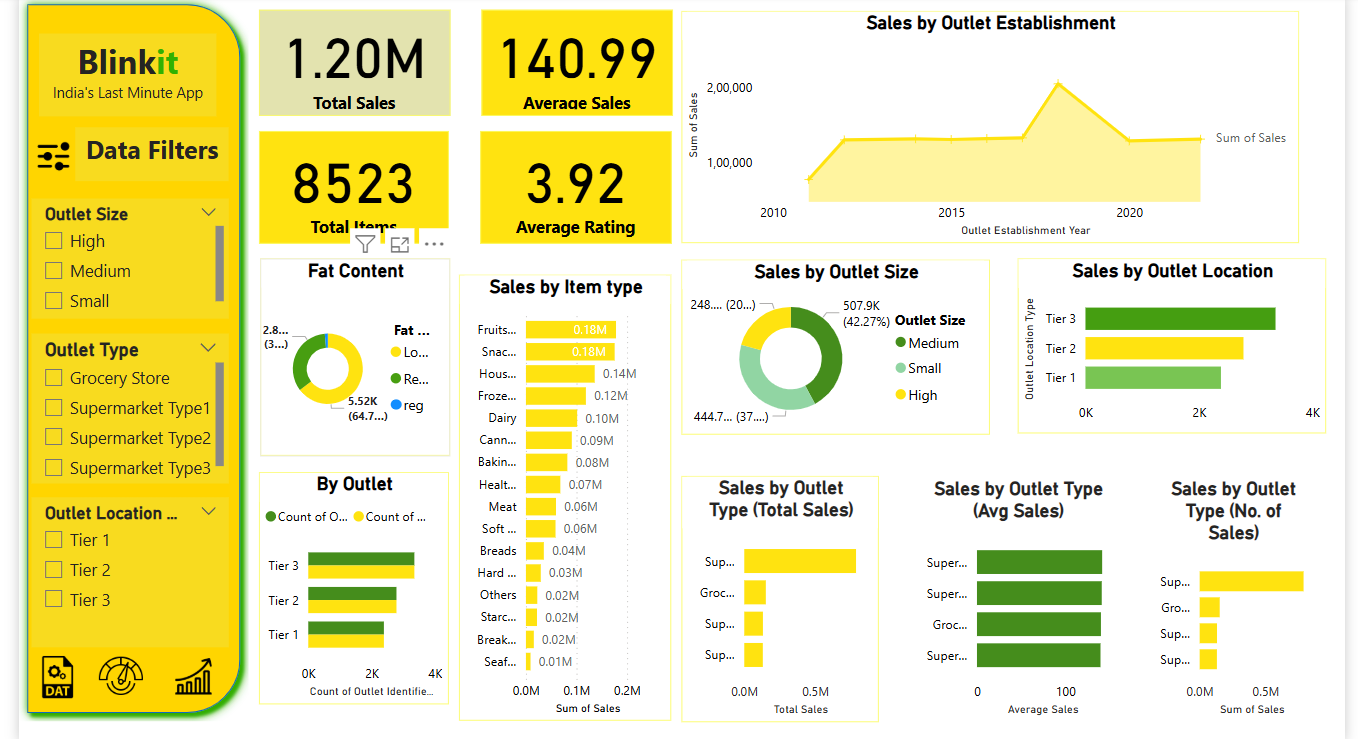

The dashboard page shown, as its layout file describes it:
{"tool":"powerbi","page":{"name":"Page 1","canvas":[1280,720],"ordinal":0},"visuals":[{"type":"card","fields":{"Values":["Blinkit.Total Sales"]},"box":[231.6,13.3,184.6,102.5],"z":0},{"type":"card","fields":{"Values":["Blinkit.Average Sales"]},"box":[446.4,13.3,184.6,102.5],"z":1000},{"type":"card","fields":{"Values":["Blinkit.Total Items"]},"box":[231.6,130.3,183.4,108.6],"z":2000},{"type":"card","fields":{"Values":["Blinkit.Average Rating"]},"box":[445.2,130.3,184.6,108.6],"z":3000},{"type":"donutChart","title":" Fat Content","fields":{"Category":["Blinkit.Item Fat Content"],"Y":["CountNonNull(Blinkit.Outlet Type)"]},"box":[232.8,253.4,183.4,190.6],"z":4000},{"type":"barChart","title":" Sales by Item type","fields":{"Category":["Blinkit.Item Type"],"Y":["Sum(Blinkit.Sales)"]},"box":[424.7,269,205.1,430.7],"z":5000},{"type":"clusteredBarChart","title":"Sales by Outlet Location","fields":{"Category":["Blinkit.Outlet Location Type"],"Y":["CountNonNull(Blinkit.Outlet Type)"]},"box":[963.9,253.4,298,168.9],"z":6000},{"type":"donutChart","title":"Sales by Outlet Size","fields":{"Category":["Blinkit.Outlet Size"],"Y":["Sum(Blinkit.Sales)"]},"box":[639.4,254.6,298,168.9],"z":7000},{"type":"areaChart","title":"Sales by Outlet Establishment","fields":{"Category":["Blinkit.Outlet Establishment Year"],"Y":["Sum(Blinkit.Sales)"]},"box":[639.4,14.5,596,224.4],"z":8000},{"type":"clusteredBarChart","title":"Sales by Outlet Type  (Total Sales)","fields":{"Category":["Blinkit.Outlet Type"],"Y":["Blinkit.Total Sales"]},"box":[639.4,463.3,190.6,237.7],"z":9000},{"type":"clusteredBarChart","title":"Sales by Outlet Type  (Avg Sales)","fields":{"Category":["Blinkit.Outlet Type"],"Y":["Blinkit.Average Sales"]},"box":[859,464.5,209.9,236.5],"z":10000},{"type":"clusteredBarChart","title":"Sales by Outlet Type  (No. of  Sales)","fields":{"Category":["Blinkit.Outlet Type"],"Y":["Sum(Blinkit.Sales)"]},"box":[1081,464.5,181,236.5],"z":11000},{"type":"clusteredBarChart","title":"By Outlet","fields":{"Category":["Blinkit.Outlet Location Type"],"Y":["CountNonNull(Blinkit.Outlet Identifier)","CountNonNull(Blinkit.Outlet Establishment Year)"]},"box":[231.6,459.7,183.4,224.4],"z":12000},{"type":"shape","box":[0,0,222,699.7],"z":13000},{"type":"textbox","box":[19.3,36.2,171.3,79.6],"z":14000},{"type":"slicer","fields":{"Values":["Blinkit.Outlet Size"]},"box":[12.1,195.4,190.6,115.8],"z":15000},{"type":"slicer","fields":{"Values":["Blinkit.Outlet Type"]},"box":[12.1,325.7,190.6,144.8],"z":16000},{"type":"slicer","fields":{"Values":["Blinkit.Outlet Location Type"]},"box":[12.1,483.8,190.6,144.8],"z":17000},{"type":"image","box":[12.1,130.3,42.2,48.3],"z":18000},{"type":"textbox","box":[54.3,126.7,148.4,51.9],"z":19000},{"type":"image","box":[12.1,629.8,50.7,55.5],"z":20000},{"type":"image","box":[67.6,628.6,61.5,55.5],"z":21000},{"type":"image","box":[146,633.4,44.6,47.1],"z":22000}]}

Visuals, with their boxes on the page's 1280x720 design canvas (x1, y1, x2, y2). These are canvas units, not pixel positions in the 1358x739 screenshot, which may show the page scaled, cropped or inside an application window:
card - Blinkit.Total Sales: {"left": 232, "top": 13, "right": 416, "bottom": 116}
card - Blinkit.Average Sales: {"left": 446, "top": 13, "right": 631, "bottom": 116}
card - Blinkit.Total Items: {"left": 232, "top": 130, "right": 415, "bottom": 239}
card - Blinkit.Average Rating: {"left": 445, "top": 130, "right": 630, "bottom": 239}
" Fat Content" donutChart: {"left": 233, "top": 253, "right": 416, "bottom": 444}
" Sales by Item type" barChart: {"left": 425, "top": 269, "right": 630, "bottom": 700}
"Sales by Outlet Location" clusteredBarChart: {"left": 964, "top": 253, "right": 1262, "bottom": 422}
"Sales by Outlet Size" donutChart: {"left": 639, "top": 255, "right": 937, "bottom": 424}
"Sales by Outlet Establishment" areaChart: {"left": 639, "top": 14, "right": 1235, "bottom": 239}
"Sales by Outlet Type  (Total Sales)" clusteredBarChart: {"left": 639, "top": 463, "right": 830, "bottom": 701}
"Sales by Outlet Type  (Avg Sales)" clusteredBarChart: {"left": 859, "top": 464, "right": 1069, "bottom": 701}
"Sales by Outlet Type  (No. of  Sales)" clusteredBarChart: {"left": 1081, "top": 464, "right": 1262, "bottom": 701}
"By Outlet" clusteredBarChart: {"left": 232, "top": 460, "right": 415, "bottom": 684}
shape: {"left": 0, "top": 0, "right": 222, "bottom": 700}
textbox: {"left": 19, "top": 36, "right": 191, "bottom": 116}
slicer - Blinkit.Outlet Size: {"left": 12, "top": 195, "right": 203, "bottom": 311}
slicer - Blinkit.Outlet Type: {"left": 12, "top": 326, "right": 203, "bottom": 470}
slicer - Blinkit.Outlet Location Type: {"left": 12, "top": 484, "right": 203, "bottom": 629}
image: {"left": 12, "top": 130, "right": 54, "bottom": 179}
textbox: {"left": 54, "top": 127, "right": 203, "bottom": 179}
image: {"left": 12, "top": 630, "right": 63, "bottom": 685}
image: {"left": 68, "top": 629, "right": 129, "bottom": 684}
image: {"left": 146, "top": 633, "right": 191, "bottom": 680}
